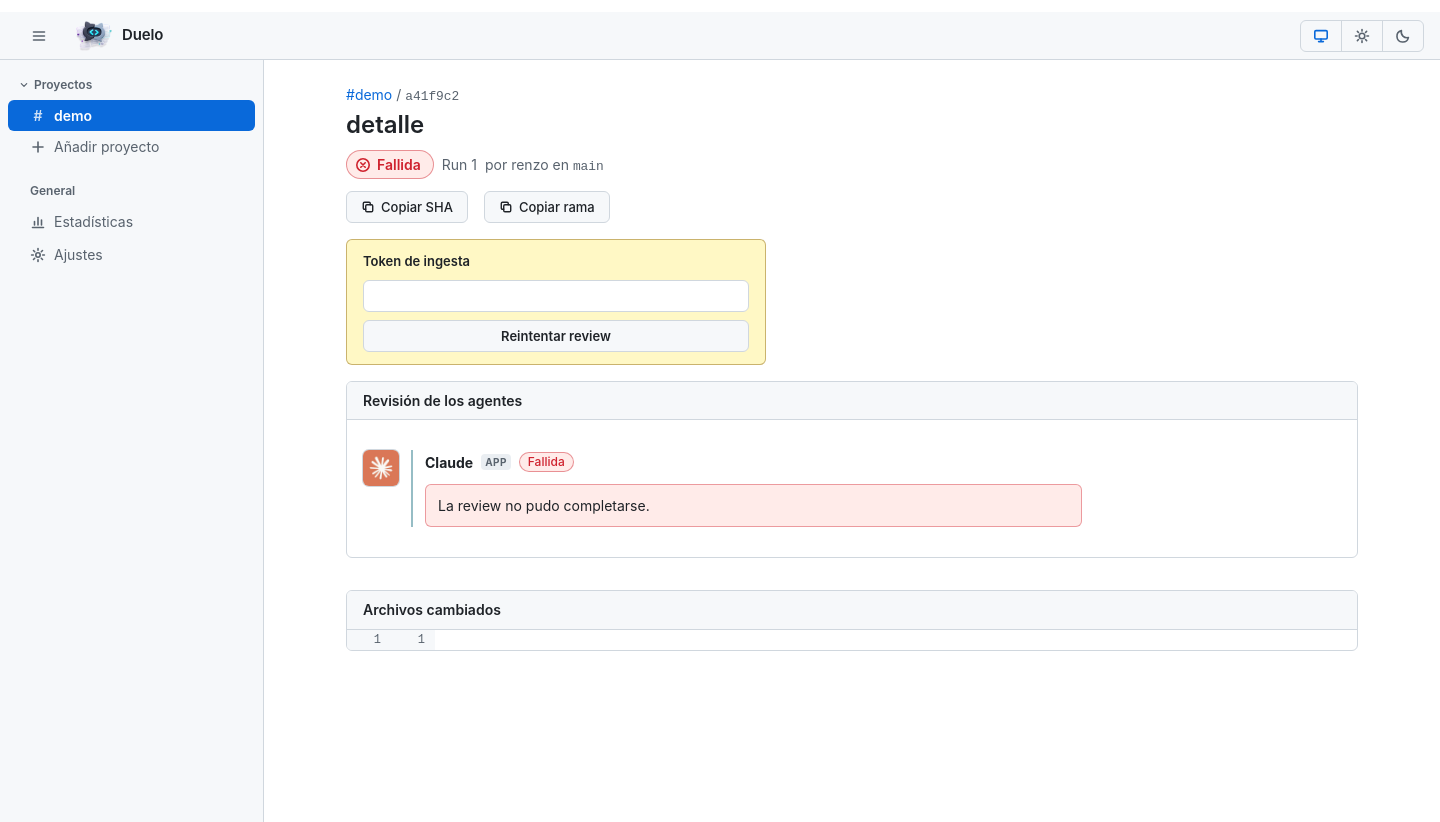
retry review › says it can no longer be retried on 409 and reloads the detail
The width and height of the screenshot is (1440, 822).
Expected: the heading "detalle" is shown, [346,110,424,139]
Type "tok" into the password field labelled "Token de ingesta" at [556, 296], box [363,280,749,312]
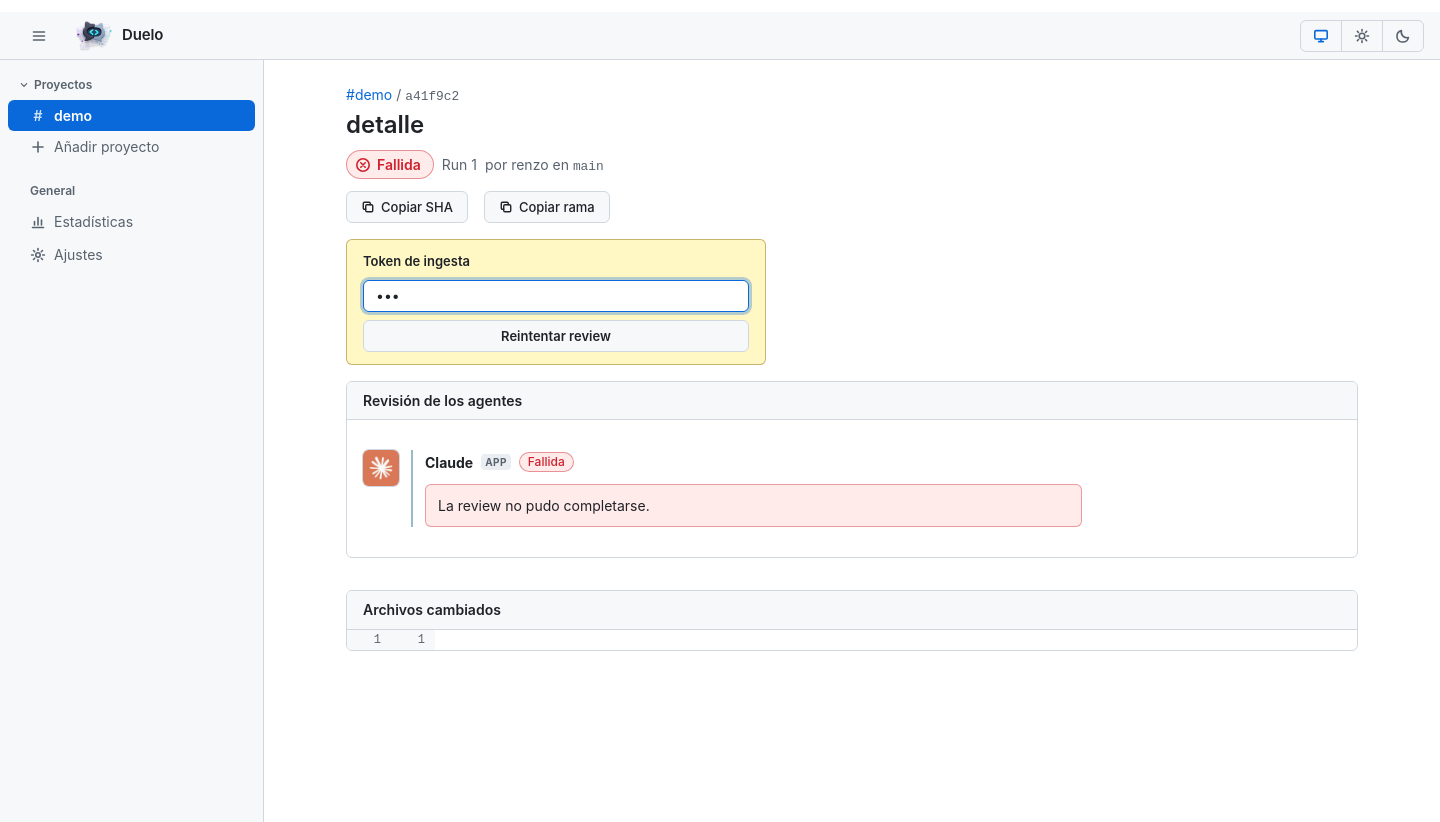
Click the button "Reintentar review" at [556, 336], box [363,320,749,352]
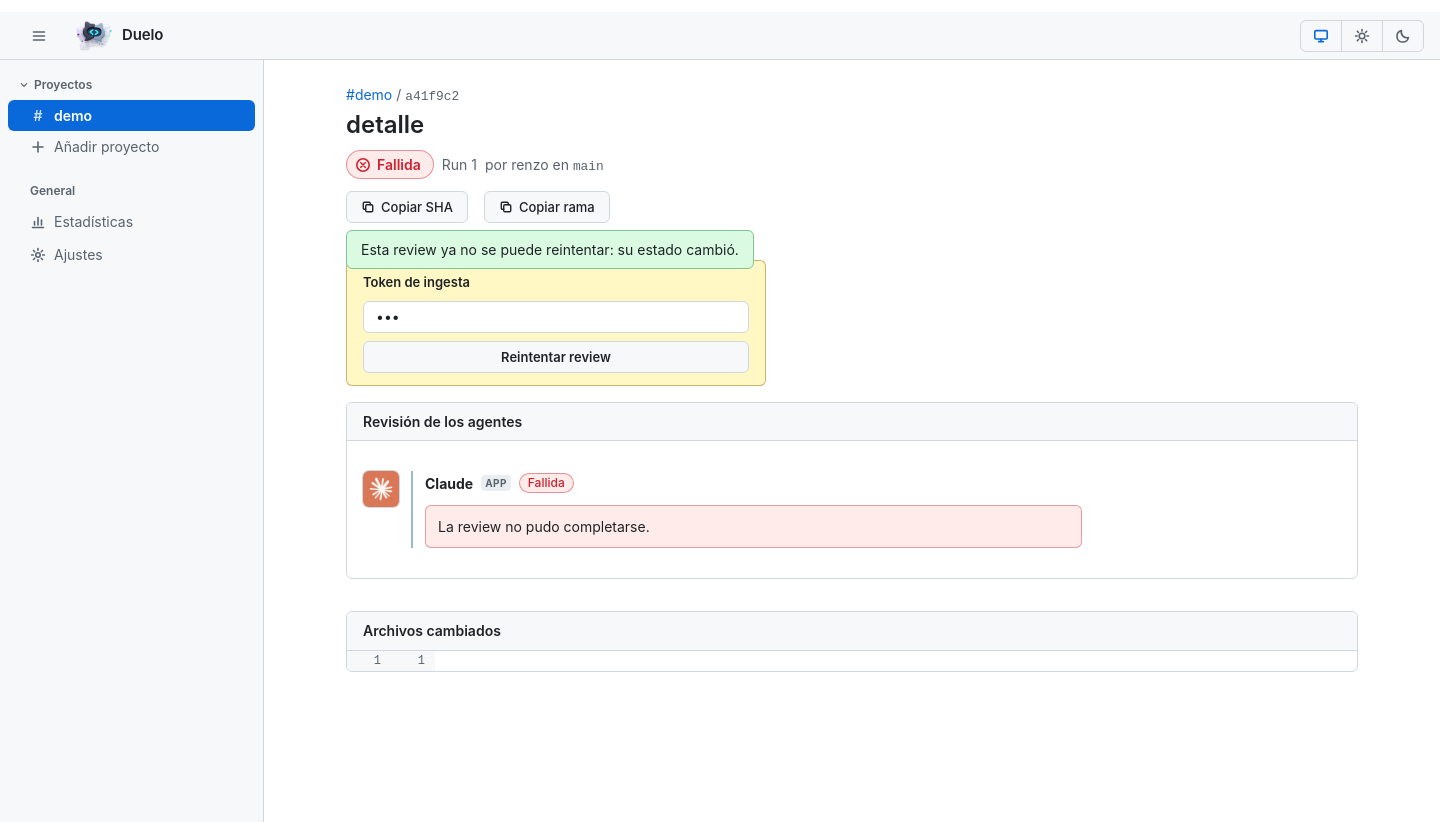
Expected: the text "Esta review ya no se puede reintentar: su estado cambió." is shown, [346,230,754,269]
